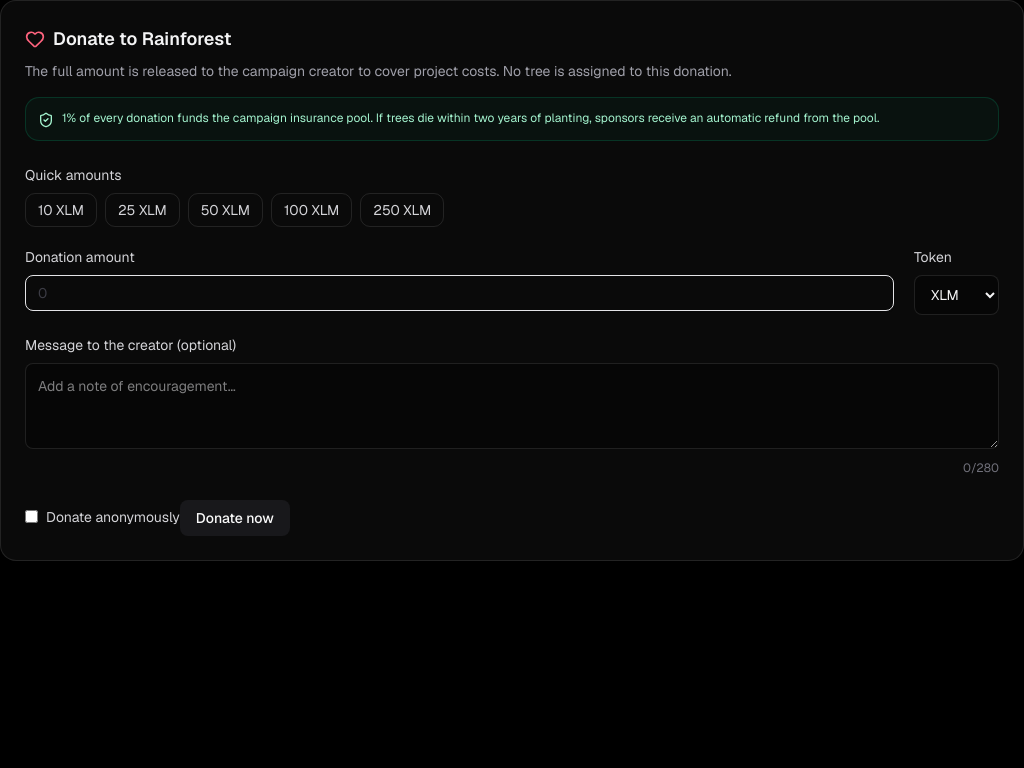
it: CampaignDonationPanel (#1001) › fills the amount from a preset
This screenshot has width=1024, height=768.
Click the button with test id "donation-preset-25": [142, 210] box [105,193,180,227]
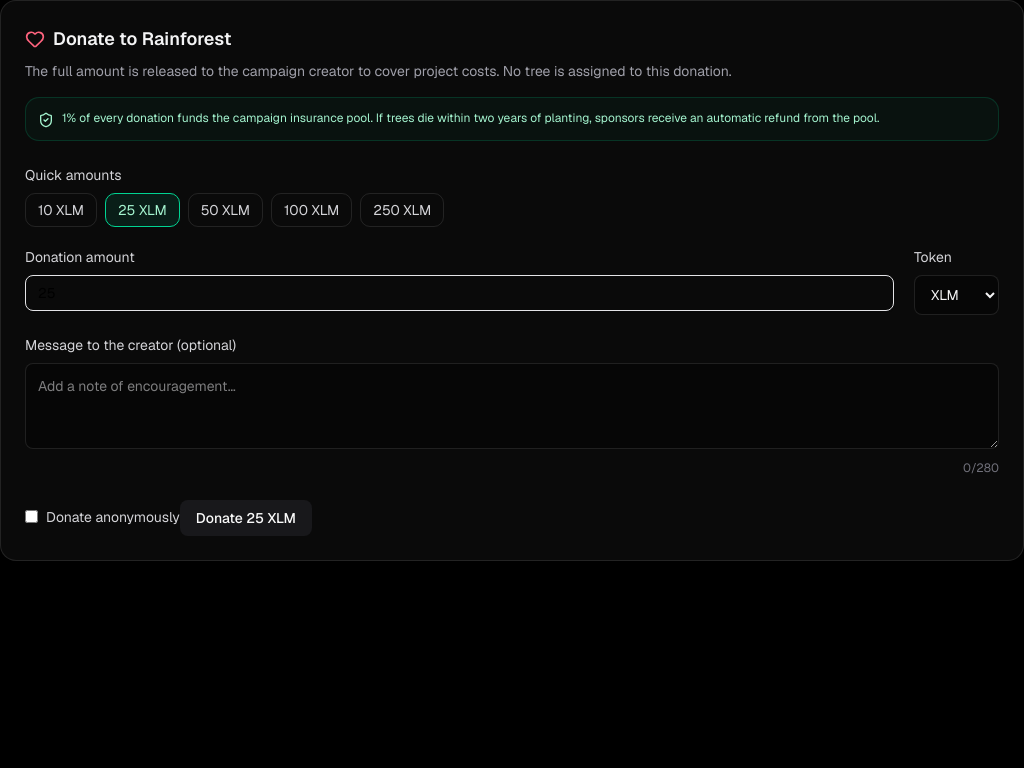
Now the field with test id "donation-amount" holds "25", box [25,275,894,311]
Now the button with test id "donation-submit" shows "25", box [180,500,312,536]
